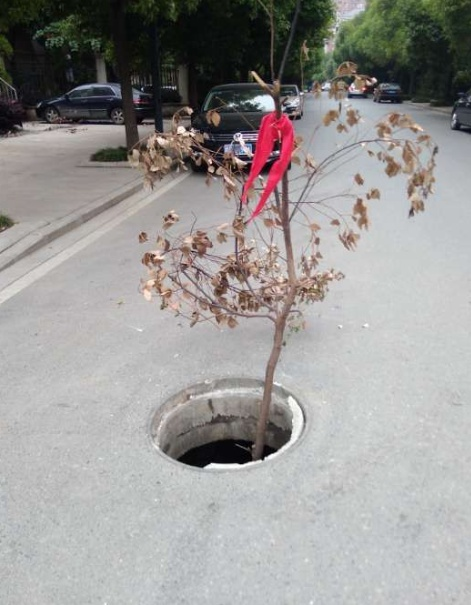lose: (147, 378, 305, 473)
